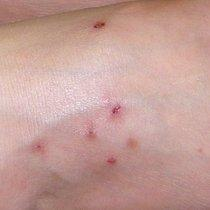Fleas: (88, 20, 112, 37), (28, 136, 46, 155), (105, 102, 121, 120), (83, 123, 98, 140), (103, 156, 118, 169), (125, 133, 138, 148)
